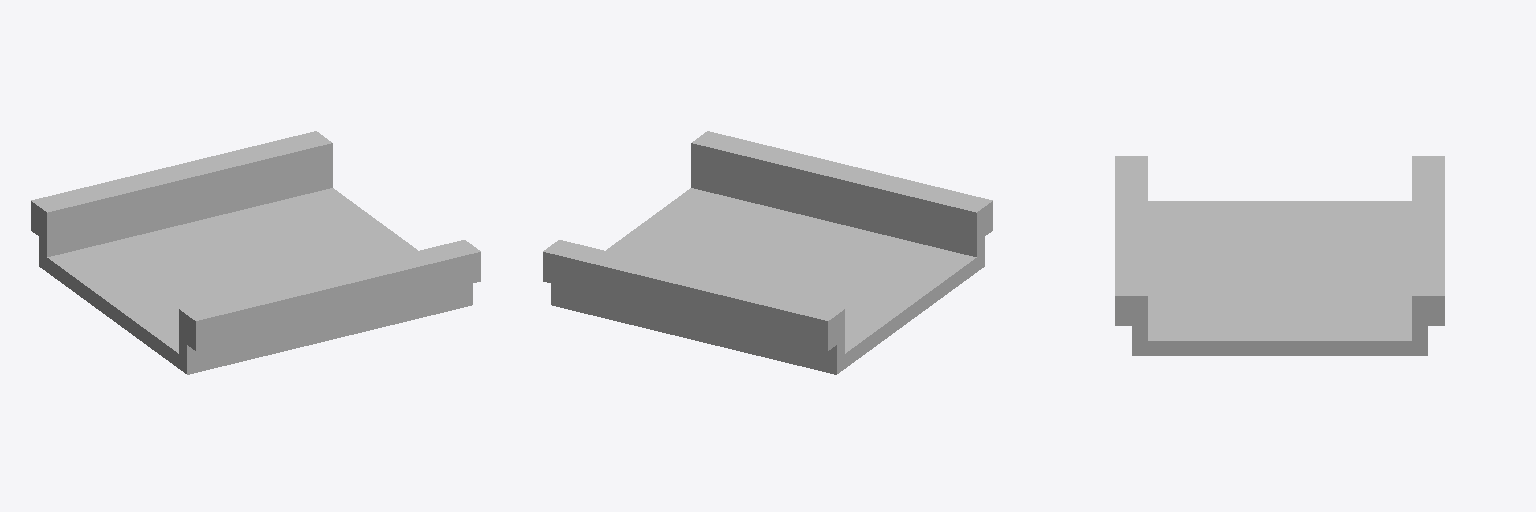
Rendered from bridge_center_woodRound.obj.
3 renders of one model, left to right at view 1: azimuth 30°, elevation 25°; view 2: azimuth 150°, elevation 25°; view 3: azimuth 270°, elevation 25°, orthographic.
Parts seen in each view (by area): view 1: bridge_center_woodRound; view 2: bridge_center_woodRound; view 3: bridge_center_woodRound.
Part boxes in pixels (x1,y1,x2,y2): bridge_center_woodRound: (31, 131, 480, 374); bridge_center_woodRound: (543, 131, 992, 374); bridge_center_woodRound: (1115, 156, 1444, 355).
Size of the model in its own units: 1 by 0.2 by 1.